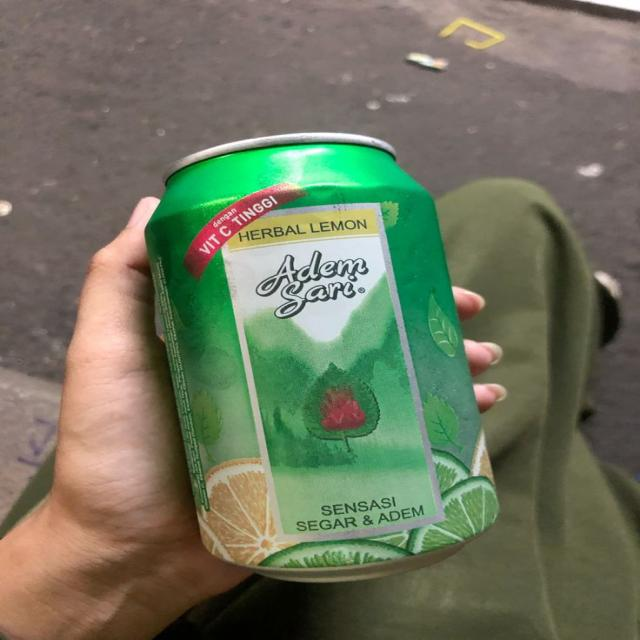ademsarikaleng: (143, 130, 500, 582)
